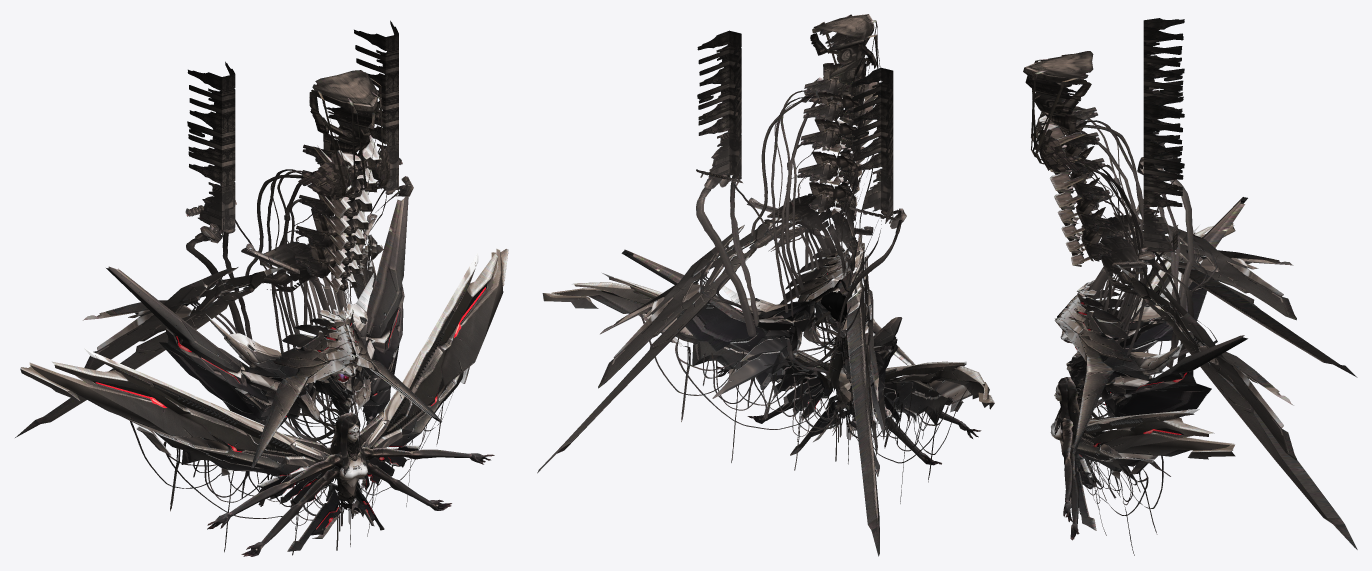
File: xba002_dmtr.glb
The picture shows the model from 3 angles, left to right: view 1: azimuth 30°, elevation 25°; view 2: azimuth 150°, elevation 25°; view 3: azimuth 270°, elevation 25°; orthographic projection. The views are drawn at different scales.
Visible parts, largest first — view 1: xba002_dmtr; view 2: xba002_dmtr; view 3: xba002_dmtr.
Boxes of the visible parts, x1,y1,x2,y2 form: xba002_dmtr: (15,20,508,556); xba002_dmtr: (537,14,994,556); xba002_dmtr: (1023,18,1357,555).
Bounding box in the file's own units: 54.06 × 50.49 × 33.5.
4 materials, 4 textured.
